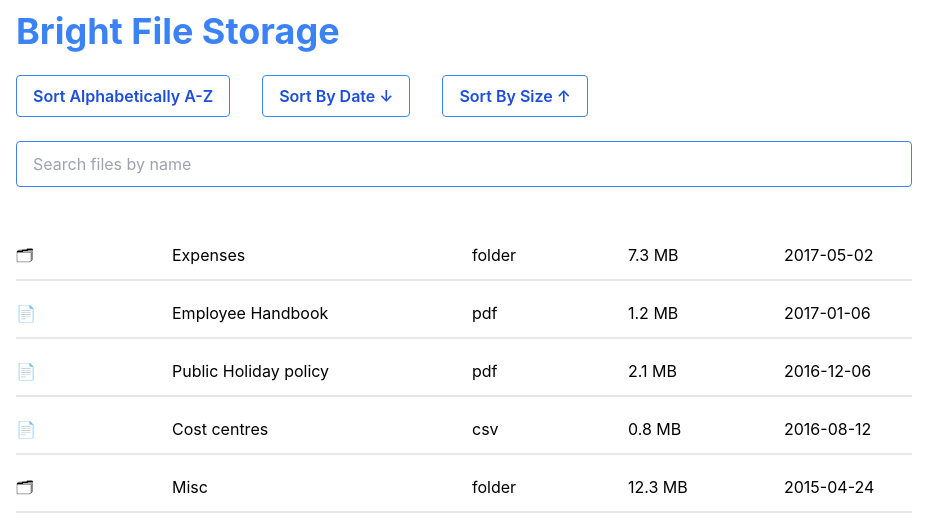
Test case: Filestorage <App /> › can sort the files by size
Expected: the text with test id "file-name" reads "Expenses", [172,245,245,265]
Click the button "Sort By Size ↑": (515, 96) [442,75,588,117]
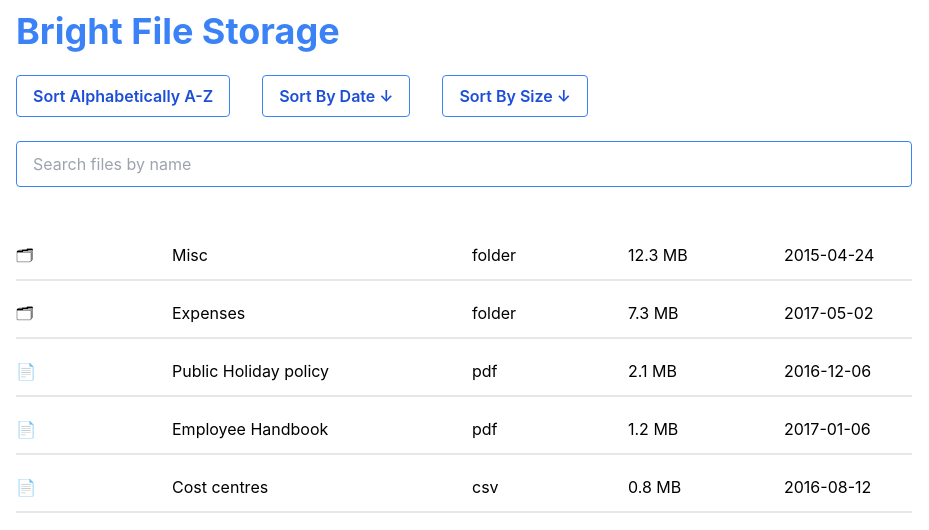
Expected: the text with test id "file-name" reads "Misc", [172,245,208,265]
